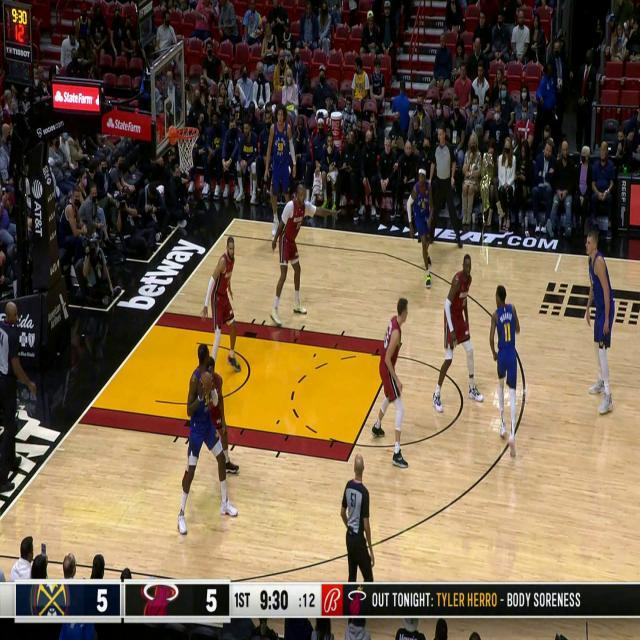rim: (201, 372, 212, 394)
